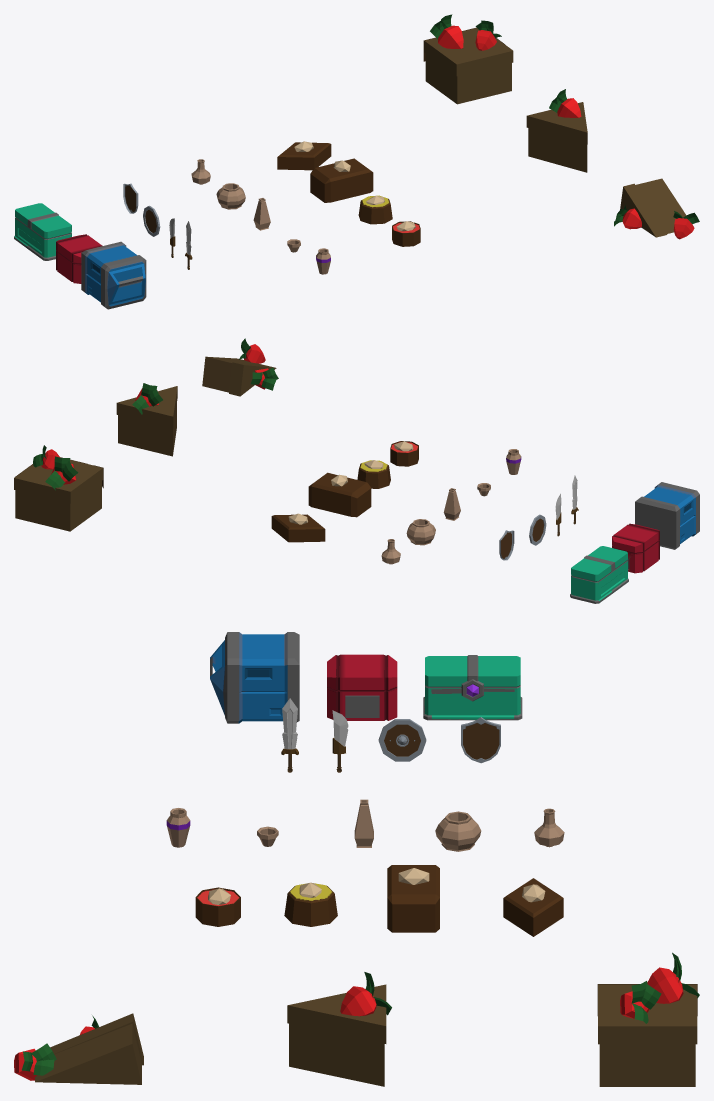
Rendered from decoracao.glb.
3 renders of one model, top to bottom at view 1: azimuth 30°, elevation 25°; view 2: azimuth 150°, elevation 25°; view 3: azimuth 270°, elevation 25°, orthographic. The views are drawn at different scales.
Visible parts, largest first — view 1: Enfeites - Bolo 03_14, Enfeites - Bolo 02_13, Caixa de municao - Azul_0, Enfeites - Bolo 01_12, Caixa de municao - Verde_1, Bombons - Redondo 02.002_18, Caixa de municao - Vermelha_2, Bombons - Lozangulo 02_15, Bombons - Redondo 02_16, Bombons - Redondo 02.001_17, Vasos - Redondo roxo_6; view 2: Enfeites - Bolo 03_14, Enfeites - Bolo 02_13, Caixa de municao - Azul_0, Enfeites - Bolo 01_12, Caixa de municao - Verde_1, Bombons - Redondo 02.002_18, Caixa de municao - Vermelha_2, Bombons - Lozangulo 02_15, Bombons - Redondo 02_16, Bombons - Redondo 02.001_17, Vasos - Redondo roxo_6; view 3: Enfeites - Bolo 03_14, Enfeites - Bolo 02_13, Caixa de municao - Azul_0, Caixa de municao - Verde_1, Enfeites - Bolo 01_12, Caixa de municao - Vermelha_2, Bombons - Redondo 02.002_18, Bombons - Lozangulo 02_15, Bombons - Redondo 02_16, Armas - Escudo 01_8, Bombons - Redondo 02.001_17, Armas - Escudo 02_9 (+5 smaller).
Boxes of the visible parts, <box> form: Enfeites - Bolo 03_14: <box>423,14,513,104</box>; Enfeites - Bolo 02_13: <box>526,89,587,172</box>; Caixa de municao - Azul_0: <box>81,241,146,309</box>; Enfeites - Bolo 01_12: <box>614,178,699,239</box>; Caixa de municao - Verde_1: <box>14,203,71,260</box>; Bombons - Redondo 02.002_18: <box>310,158,373,202</box>; Caixa de municao - Vermelha_2: <box>56,234,102,283</box>; Bombons - Lozangulo 02_15: <box>277,141,331,170</box>; Bombons - Redondo 02_16: <box>358,195,392,224</box>; Bombons - Redondo 02.001_17: <box>392,221,420,246</box>; Vasos - Redondo roxo_6: <box>216,183,245,209</box>; Enfeites - Bolo 03_14: <box>14,445,103,531</box>; Enfeites - Bolo 02_13: <box>116,383,177,456</box>; Caixa de municao - Azul_0: <box>635,482,699,549</box>; Enfeites - Bolo 01_12: <box>202,338,278,396</box>; Caixa de municao - Verde_1: <box>570,546,628,603</box>; Bombons - Redondo 02.002_18: <box>308,472,371,517</box>; Caixa de municao - Vermelha_2: <box>612,523,659,573</box>; Bombons - Lozangulo 02_15: <box>271,513,325,542</box>; Bombons - Redondo 02_16: <box>357,460,390,488</box>; Bombons - Redondo 02.001_17: <box>390,441,418,466</box>; Vasos - Redondo roxo_6: <box>406,519,435,545</box>; Enfeites - Bolo 03_14: <box>597,952,699,1086</box>; Enfeites - Bolo 02_13: <box>287,972,391,1086</box>; Caixa de municao - Azul_0: <box>210,632,299,723</box>; Caixa de municao - Verde_1: <box>423,655,522,720</box>; Enfeites - Bolo 01_12: <box>14,1013,143,1084</box>; Caixa de municao - Vermelha_2: <box>327,654,397,720</box>; Bombons - Redondo 02.002_18: <box>387,865,439,932</box>; Bombons - Lozangulo 02_15: <box>503,878,563,936</box>; Bombons - Redondo 02_16: <box>284,882,337,926</box>; Armas - Escudo 01_8: <box>378,719,426,761</box>; Bombons - Redondo 02.001_17: <box>195,887,240,926</box>; Armas - Escudo 02_9: <box>461,717,500,763</box>.
Bounding box in the file's own units: 9.71 × 1.22 × 7.16.
Materials: 1 (1 with a texture image).
